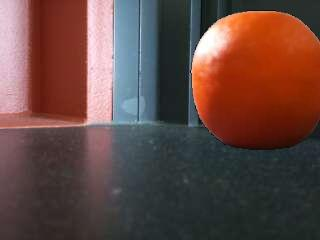Orange: (193, 12, 320, 153)
